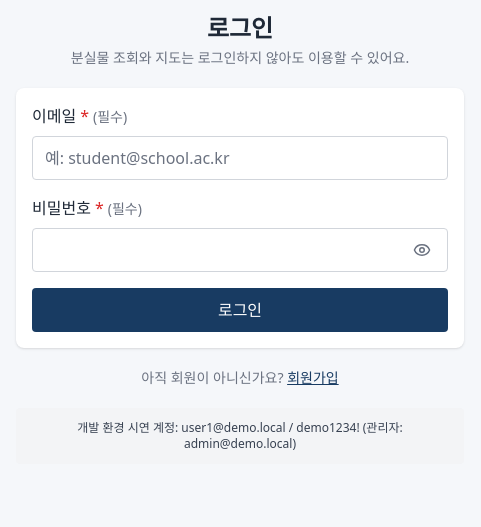
Test: LoginPage › 로그인 실패 메시지를 보여주고 비밀번호를 비운다
Type "user1@demo.local" into the field labelled "이메일*(필수)" at (240, 158), box [32,136,448,180]
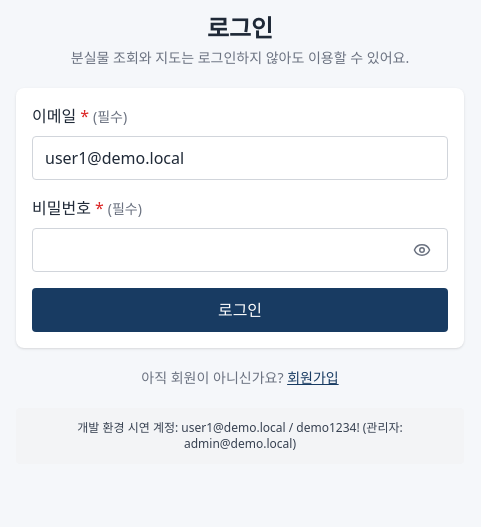
Type "wrong" into the password field labelled "비밀번호*(필수)" at (240, 250), box [32,228,448,272]
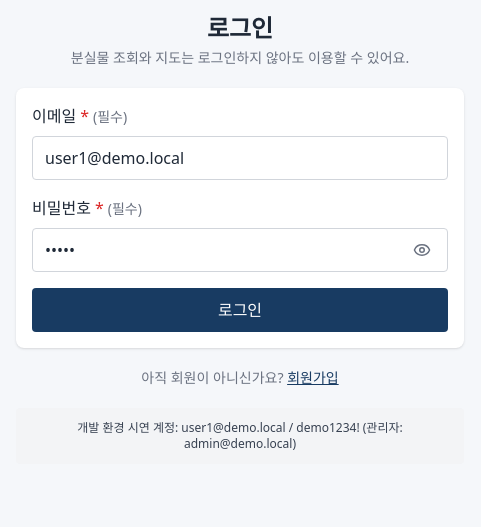
Click the button "로그인" at (240, 310), box [32,288,448,332]
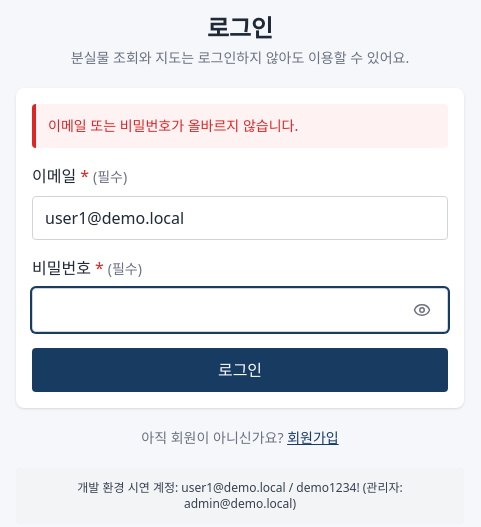
Check: the message reads "이메일 또는 비밀번호가 올바르지 않습니다.", box [48,116,298,135]
Check: the password field labelled "비밀번호*(필수)" is empty, box [32,288,448,332]
